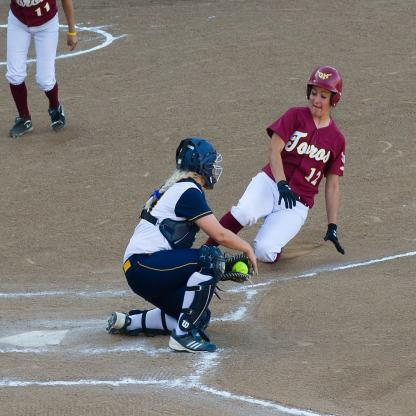Helmet: (169, 137, 223, 182), (306, 68, 340, 108)
